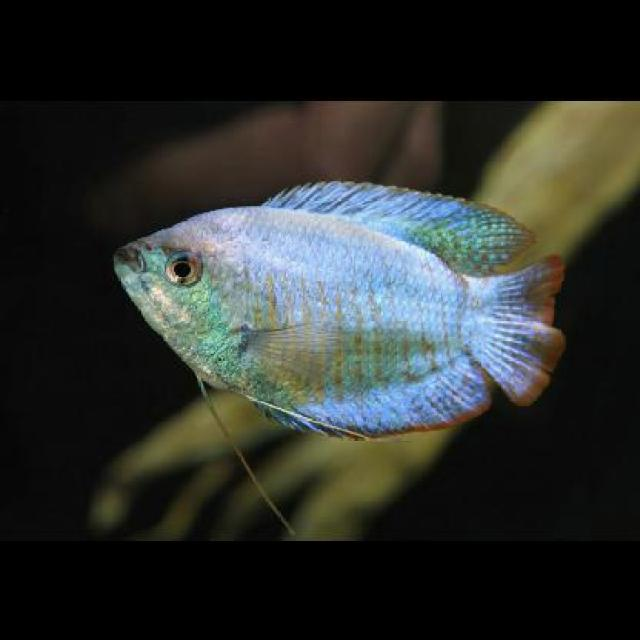Gourami: (114, 180, 563, 435)
